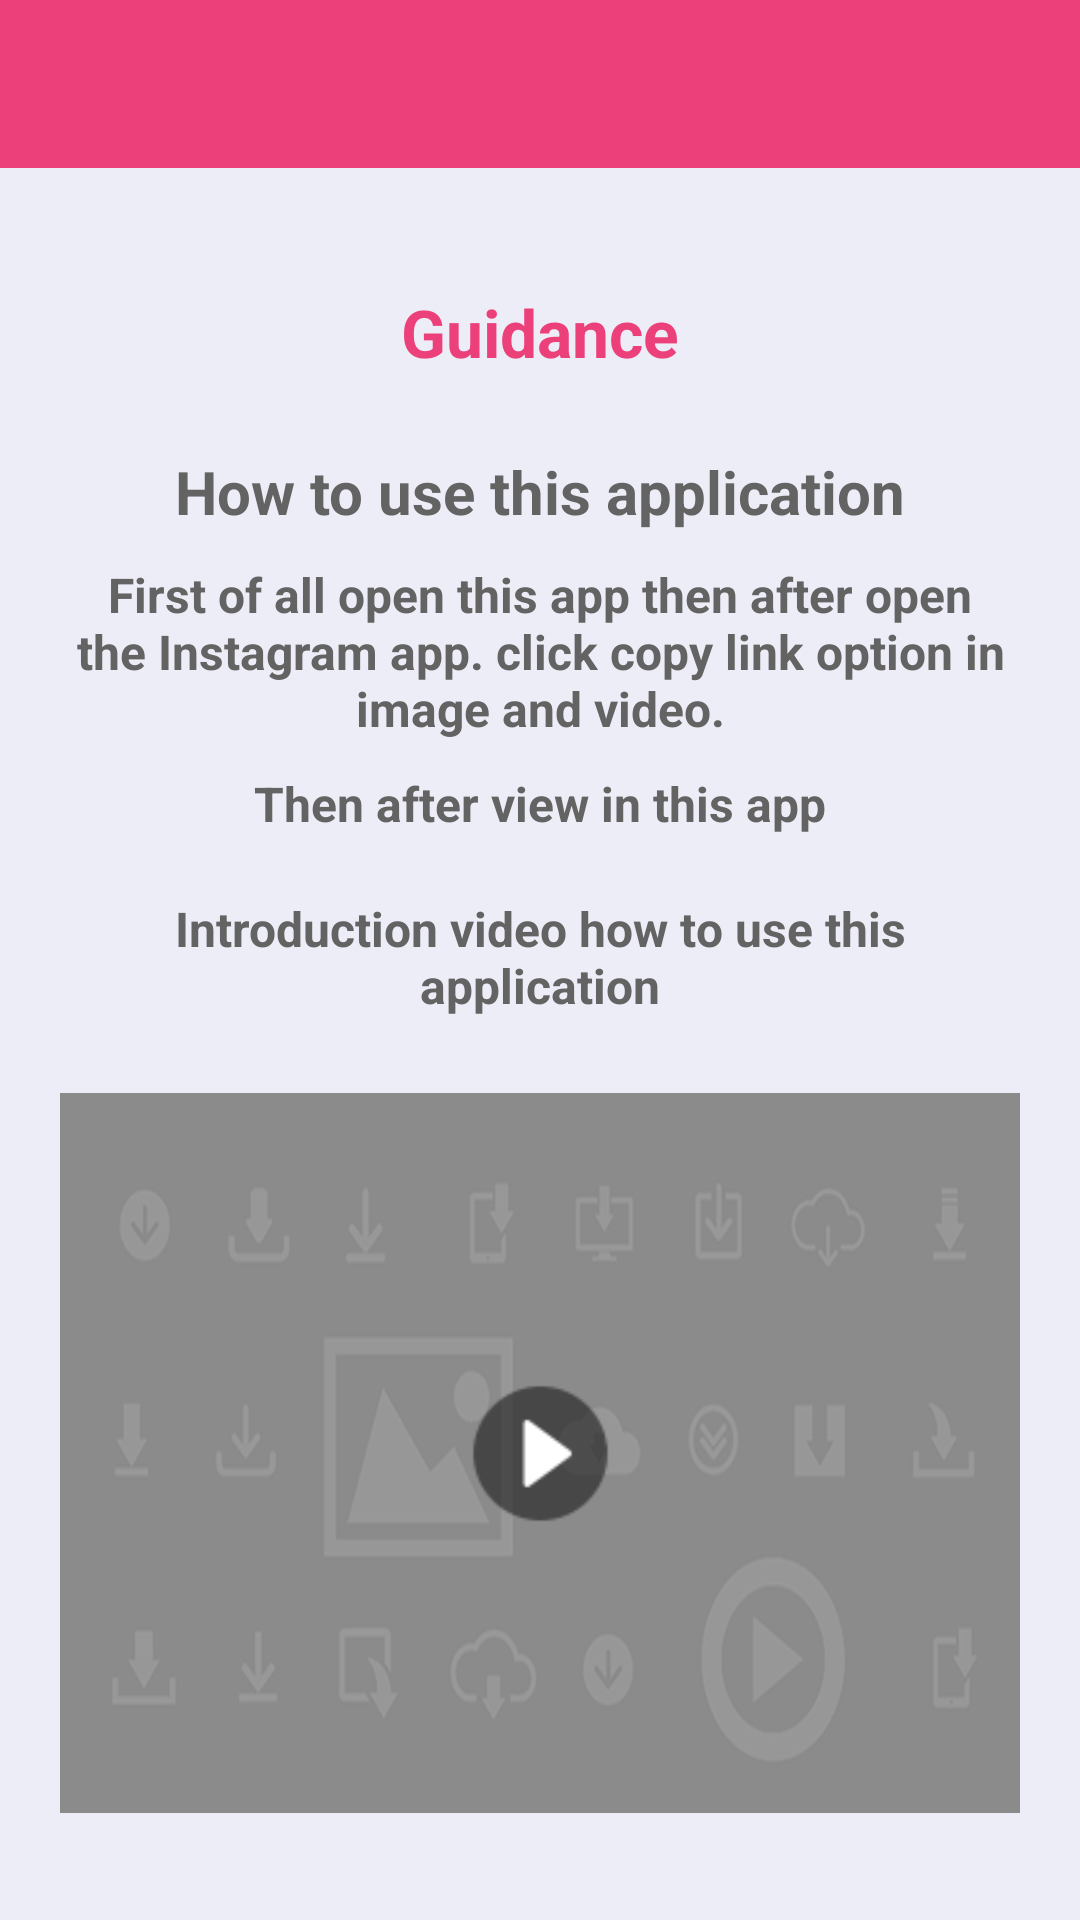

Screen size 1080*1920. Icon name, then its center in pixels as point (x, y):
play: point (540, 1453)
